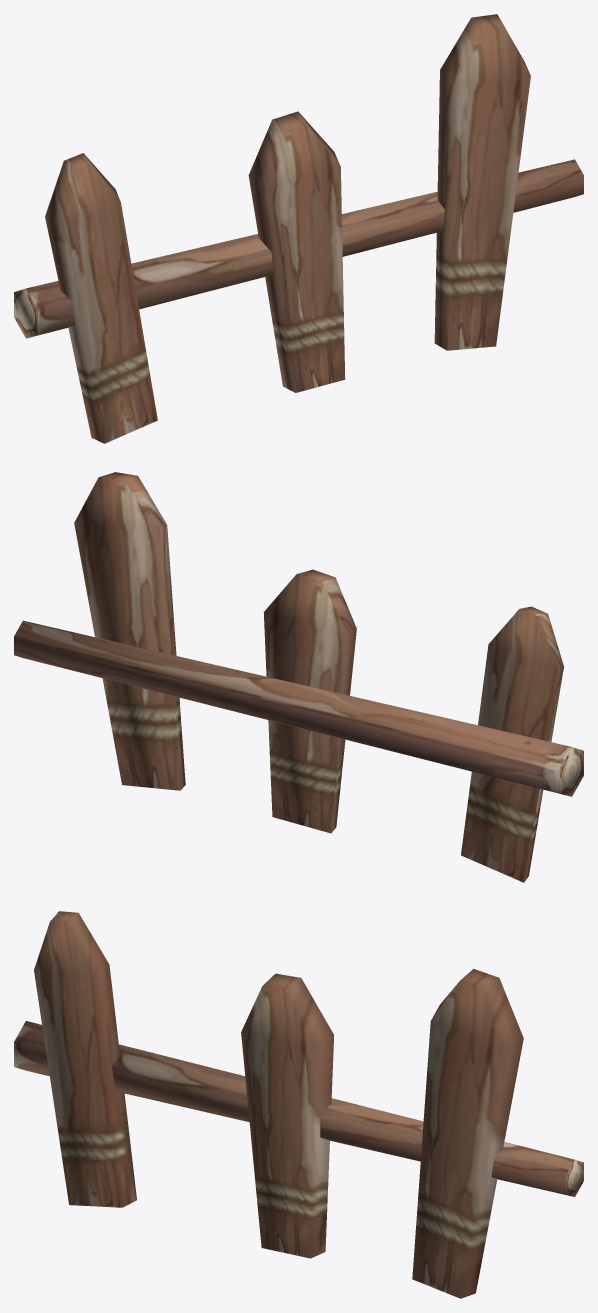
The model's file is Map_04_fence02.FBX.
3 renders of one model, top to bottom at view 1: azimuth 30°, elevation 25°; view 2: azimuth 150°, elevation 25°; view 3: azimuth 330°, elevation 25°, orthographic.
Parts seen in each view (by area): view 1: Map_04_fence02; view 2: Map_04_fence02; view 3: Map_04_fence02.
Boxes of the visible parts, x1=… form: Map_04_fence02: x1=14, y1=14, x2=583, y2=443; Map_04_fence02: x1=14, y1=472, x2=583, y2=882; Map_04_fence02: x1=14, y1=911, x2=583, y2=1298.
Bounding box in the file's own units: 67.15 × 37 × 6.24.
1 material, 1 textured.
